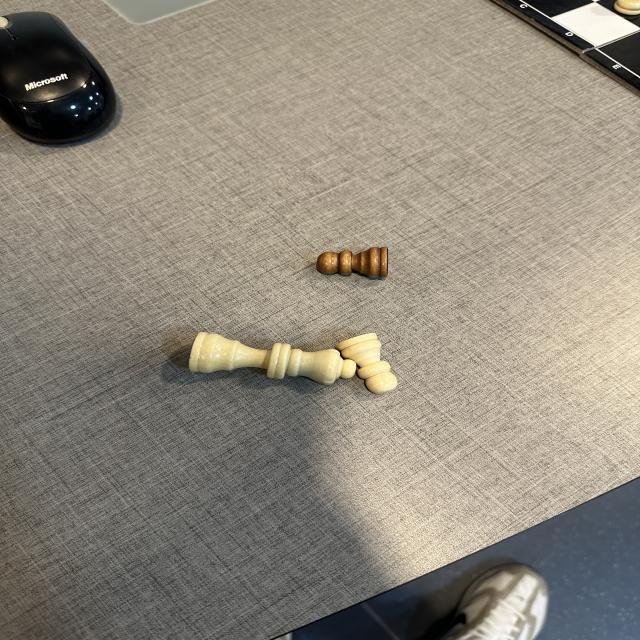Black-Pawn: (316, 246, 388, 282)
White-Pawn: (337, 332, 396, 397)
White-Queen: (188, 331, 356, 387)
